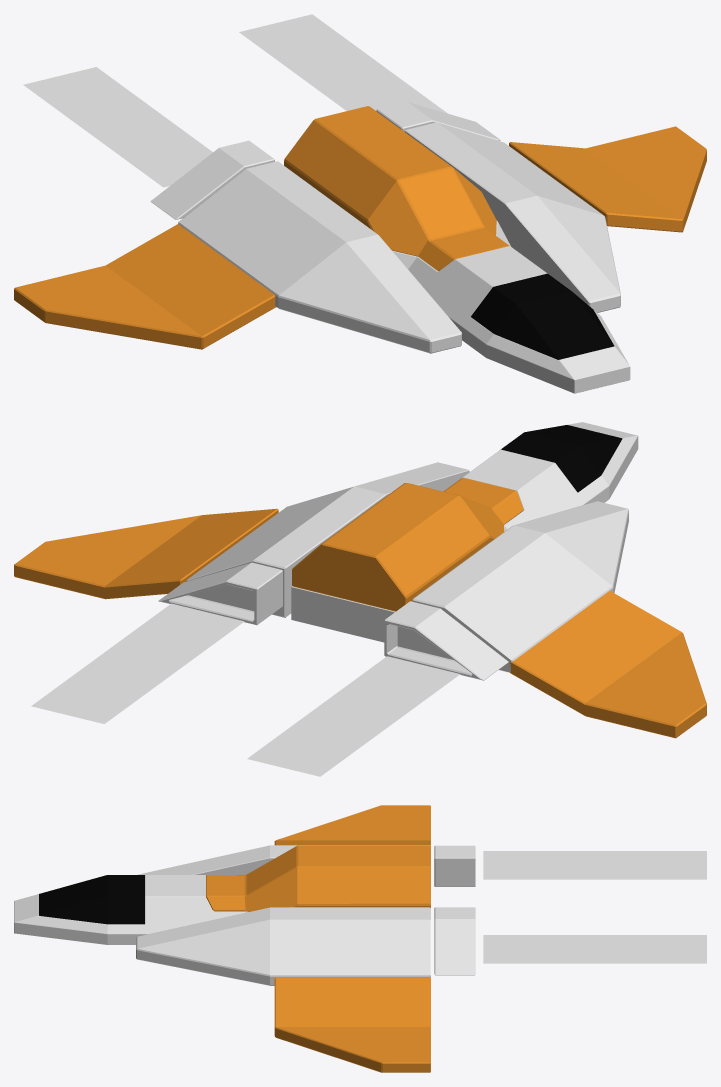
The model's file is starship.glb.
3 views of the same model, one above another, from view 1: azimuth 30°, elevation 25°; view 2: azimuth 150°, elevation 25°; view 3: azimuth 270°, elevation 25° (orthographic). The views are drawn at different scales.
Parts seen in each view (by area): view 1: wings1, wings2, body, trail, spaceship, cockpit, thrusters; view 2: wings2, wings1, trail, body, thrusters, spaceship, cockpit; view 3: wings1, wings2, trail, body, spaceship, thrusters, cockpit.
Part boxes in pixels (x1=…): wings1: x1=178, y1=122, x2=620, y2=353; wings2: x1=14, y1=126, x2=706, y2=349; body: x1=284, y1=106, x2=509, y2=271; trail: x1=23, y1=14, x2=447, y2=187; spaceship: x1=392, y1=221, x2=630, y2=393; cockpit: x1=470, y1=273, x2=614, y2=359; thrusters: x1=150, y1=102, x2=500, y2=219; wings2: x1=14, y1=508, x2=706, y2=738; wings1: x1=186, y1=462, x2=628, y2=672; trail: x1=31, y1=603, x2=460, y2=776; body: x1=292, y1=478, x2=523, y2=611; thrusters: x1=158, y1=562, x2=508, y2=680; spaceship: x1=291, y1=422, x2=638, y2=642; cockpit: x1=501, y1=425, x2=622, y2=492; wings1: x1=136, y1=845, x2=430, y2=985; wings2: x1=274, y1=805, x2=430, y2=1072; trail: x1=483, y1=851, x2=706, y2=963; body: x1=206, y1=845, x2=430, y2=911; spaceship: x1=14, y1=875, x2=248, y2=944; thrusters: x1=434, y1=845, x2=475, y2=975; cockpit: x1=39, y1=875, x2=144, y2=924.
Size of the model in its own units: 11.51 by 1.81 by 13.07.
